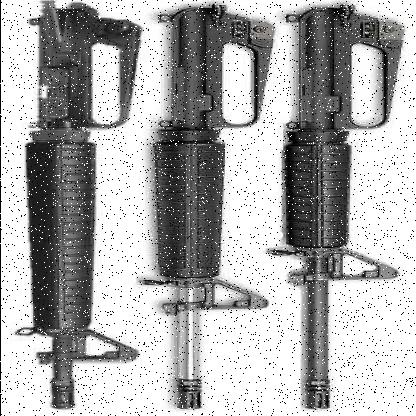rifle: (247, 0, 396, 415), (2, 0, 138, 408), (140, 0, 256, 415)
